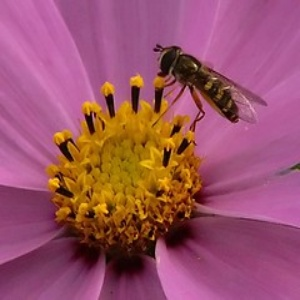bee: (152, 42, 270, 138)
